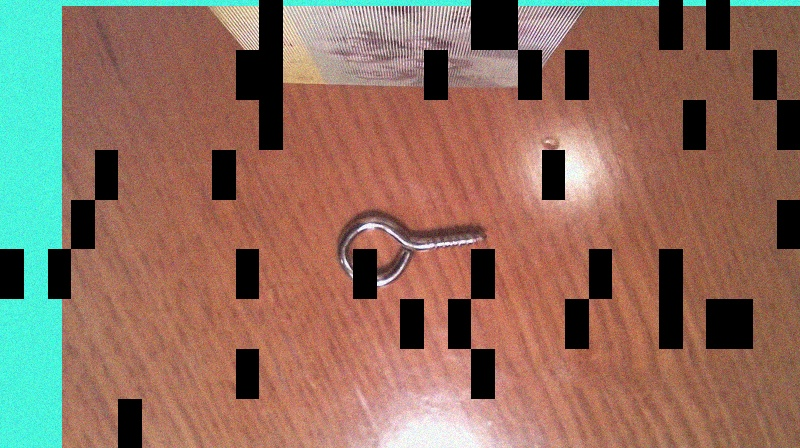O001: (331, 205, 490, 289)
